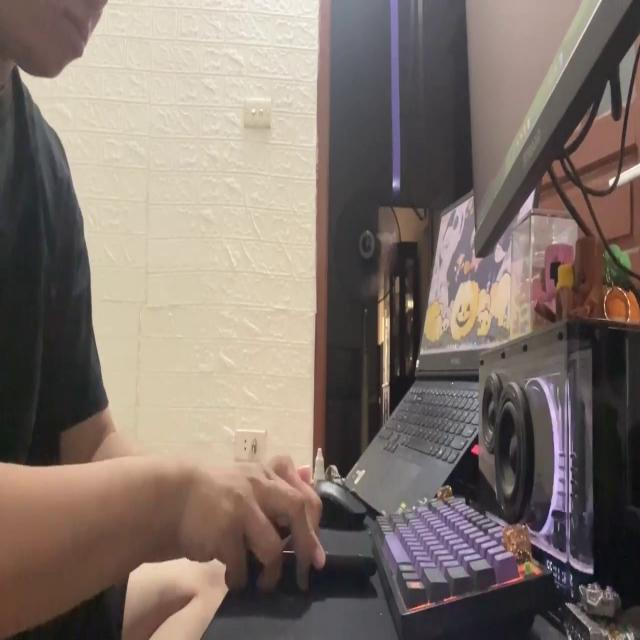laptop: (330, 172, 550, 508), (464, 0, 640, 256)
phone: (251, 513, 377, 586)
student: (0, 0, 322, 640)
